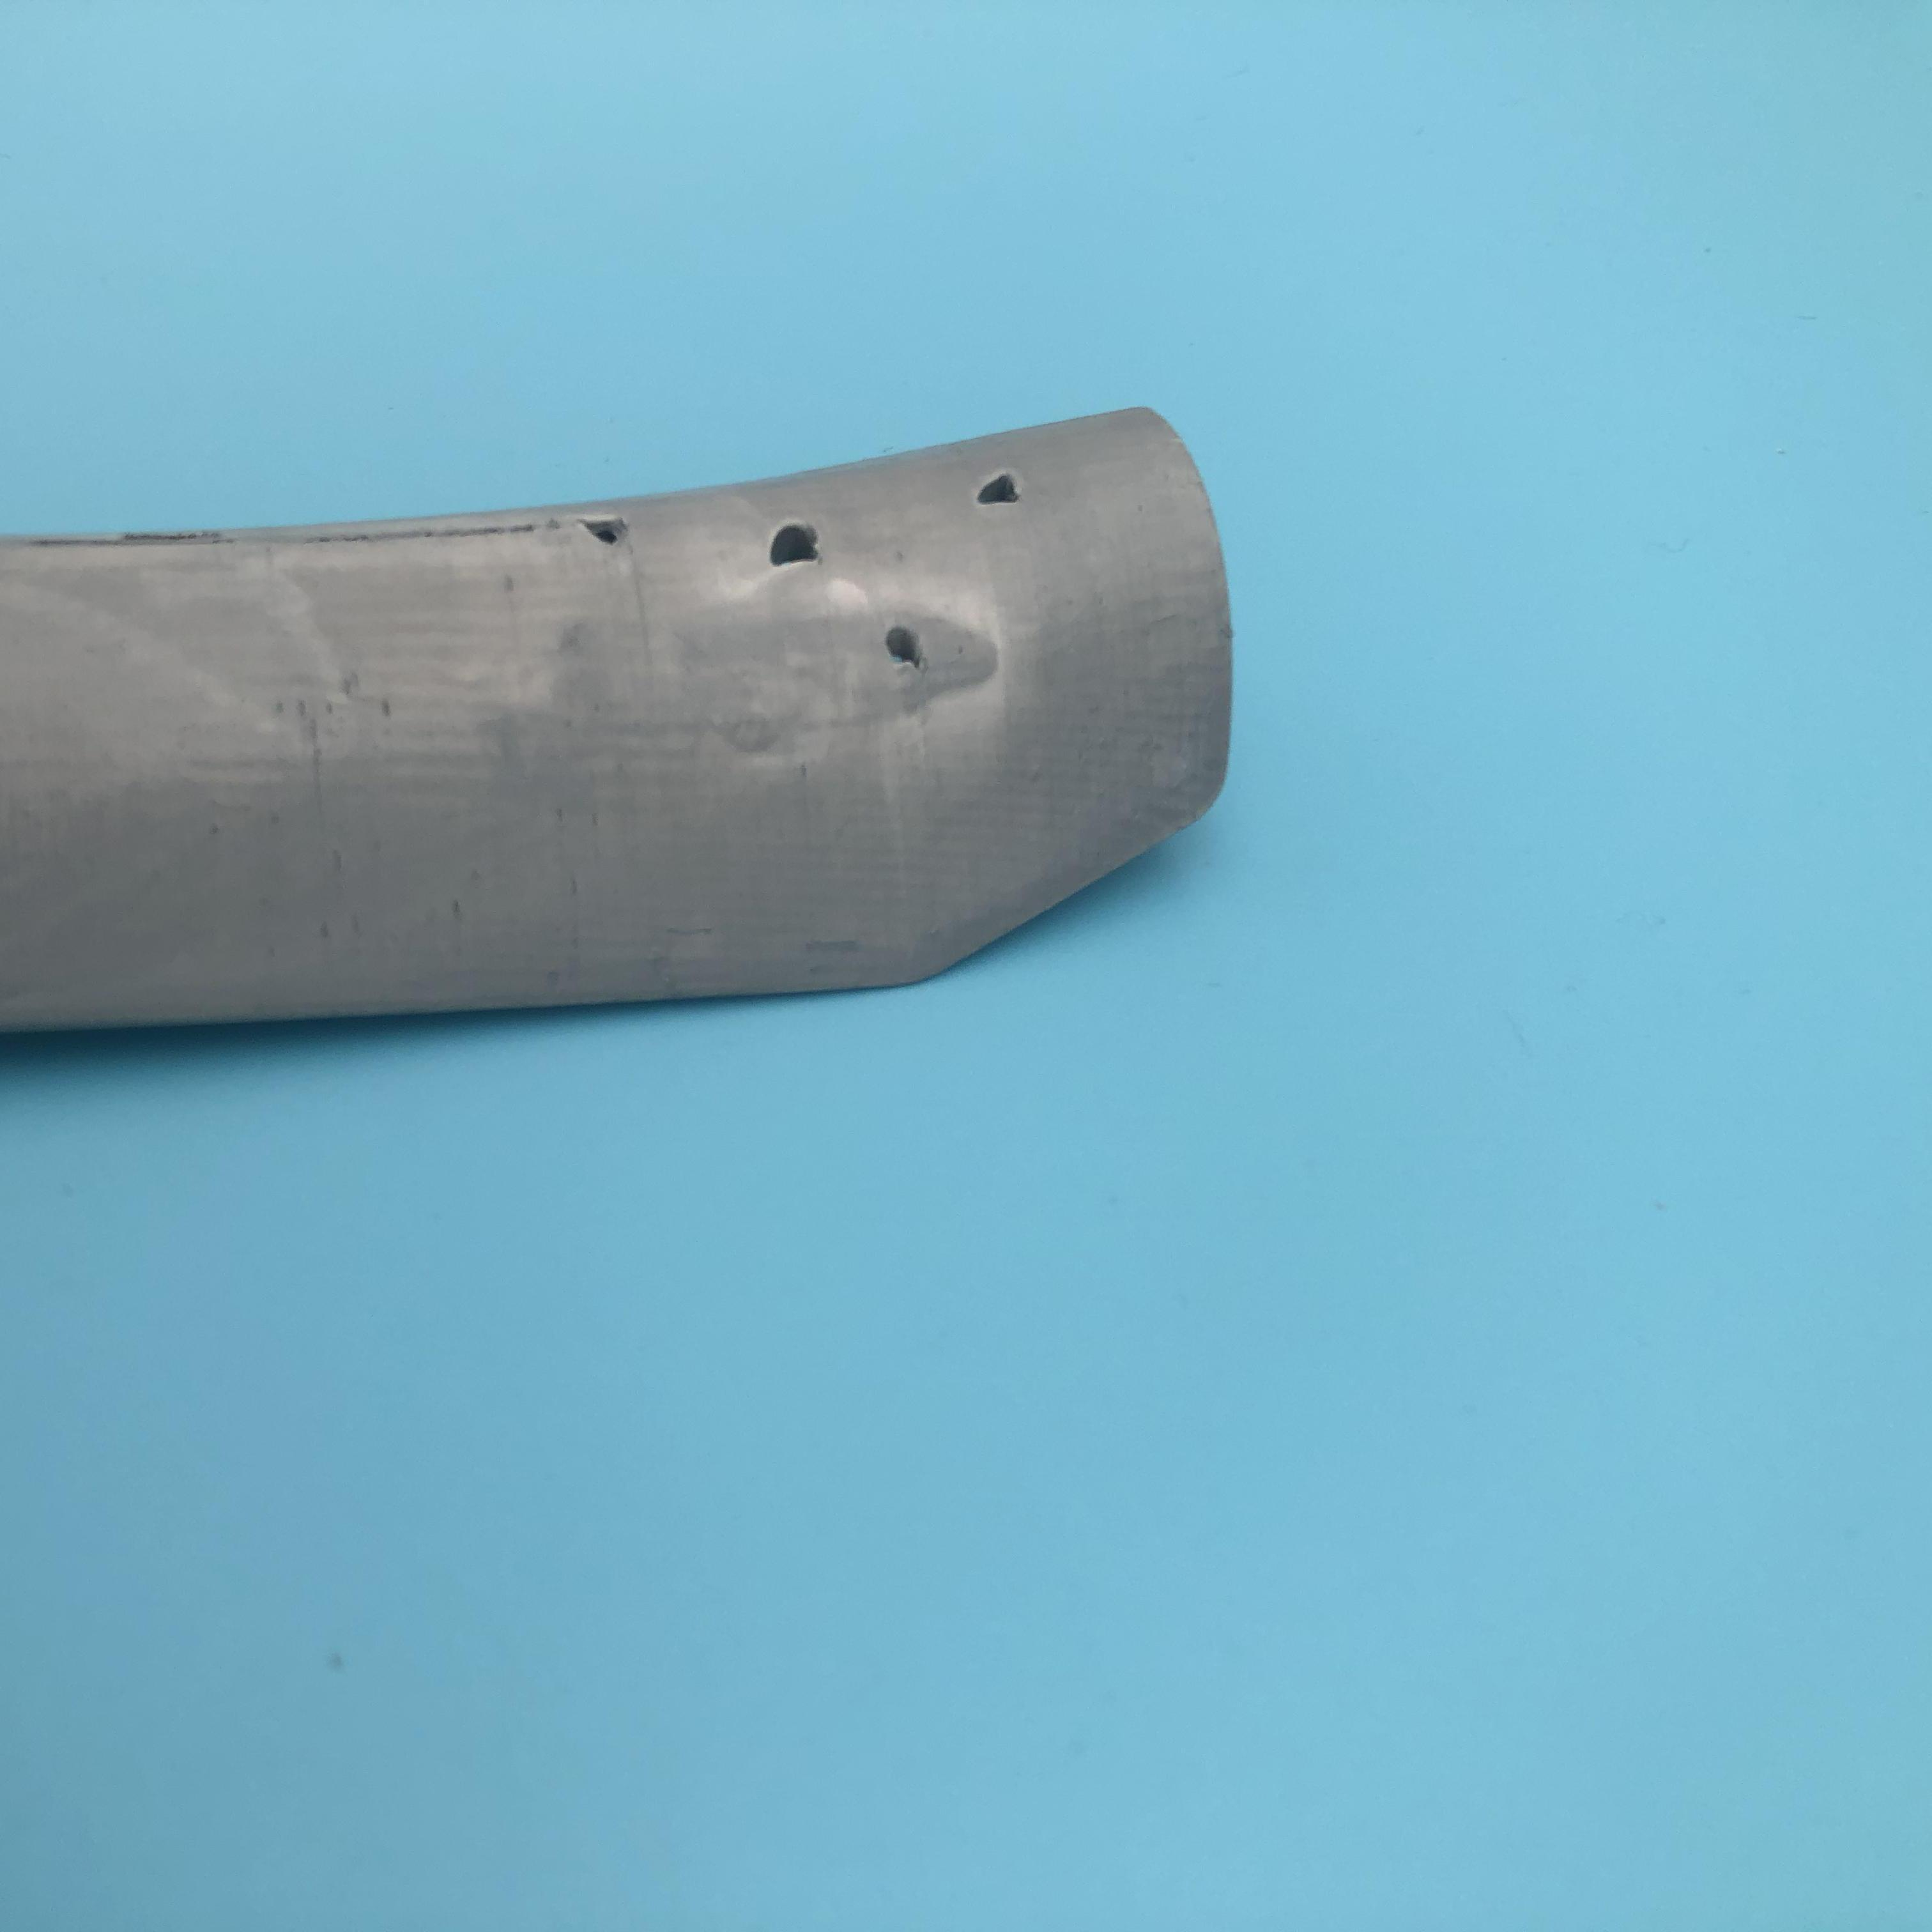breakdown: (575, 502, 934, 674), (961, 471, 1042, 527)
